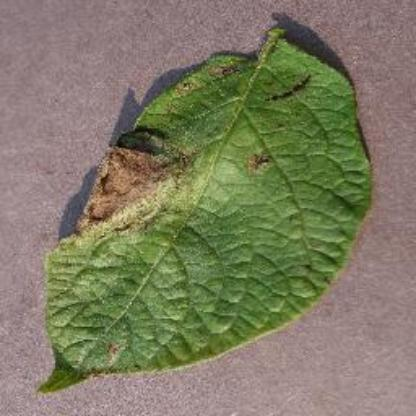Late-Blight: (37, 18, 381, 390)
